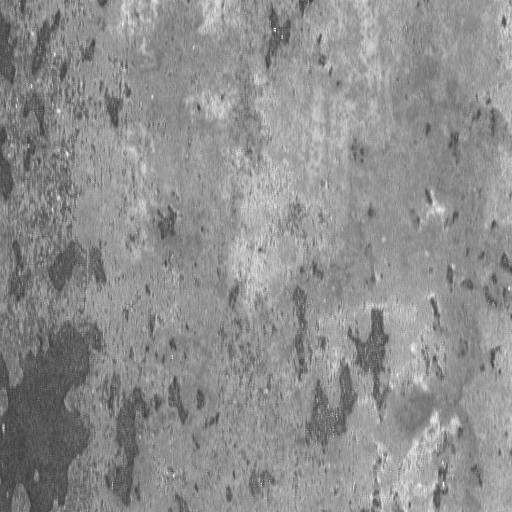aokeng: (1, 319, 91, 512), (303, 307, 391, 450)
